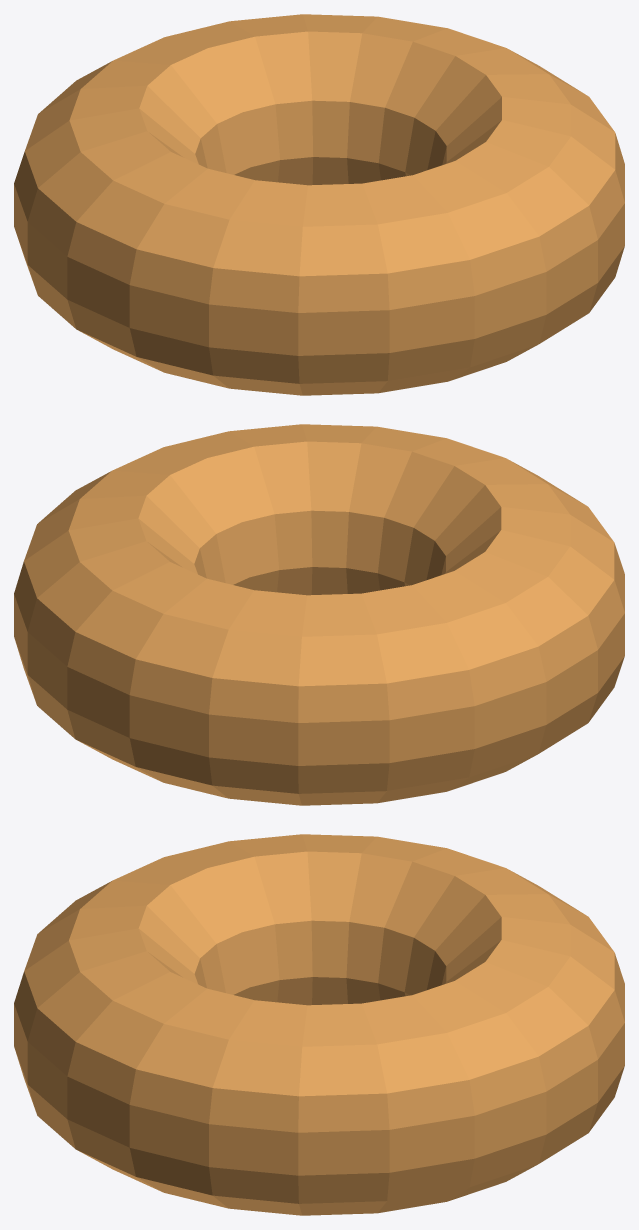
Rendered from Donut3.obj.
3 renders of one model, top to bottom at view 1: azimuth 30°, elevation 25°; view 2: azimuth 150°, elevation 25°; view 3: azimuth 270°, elevation 25°, orthographic.
Parts seen in each view (by area): view 1: Donut3; view 2: Donut3; view 3: Donut3.
Boxes of the visible parts, x1,y1,x2,y2 form: Donut3: [14, 14, 624, 395]; Donut3: [14, 424, 624, 805]; Donut3: [14, 834, 624, 1215].
Bounding box in the file's own units: 0.8591 × 0.2801 × 0.8566.
